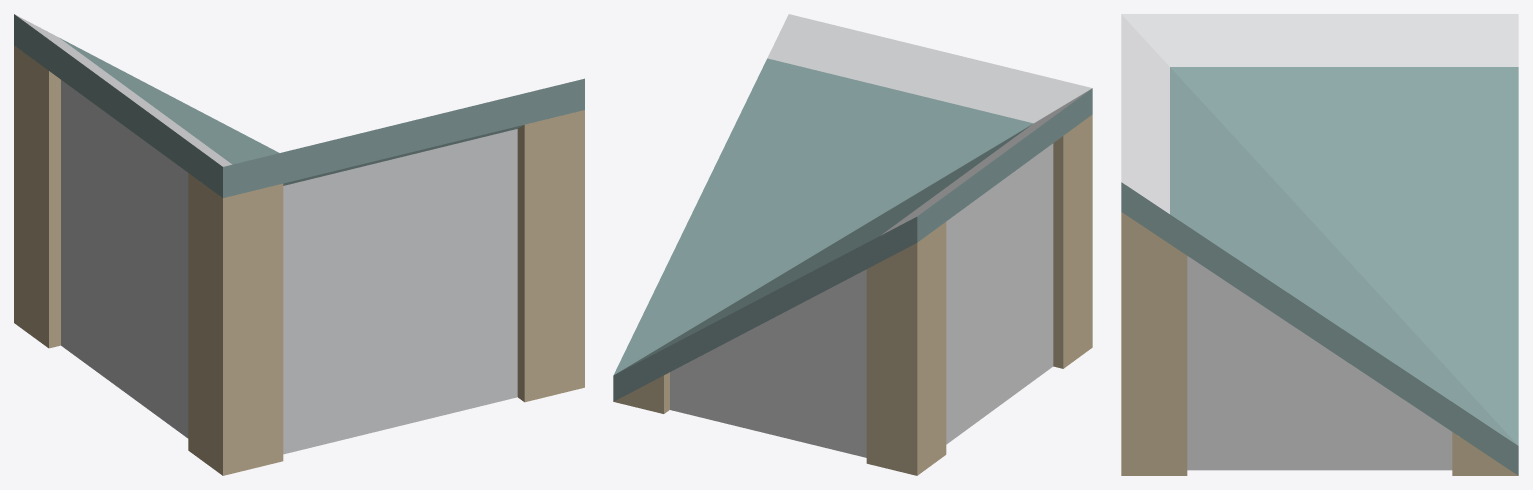
Rendered from Roof_Inner_Corner_Green_01.glb.
3 renders of one model, left to right at view 1: azimuth 30°, elevation 25°; view 2: azimuth 150°, elevation 25°; view 3: azimuth 270°, elevation 25°, orthographic. The views are drawn at different scales.
Visible parts, largest first — view 1: Roof_Inner_Corner_Green_01; view 2: Roof_Inner_Corner_Green_01; view 3: Roof_Inner_Corner_Green_01.
Part boxes in pixels (x1,y1,x2,y2): Roof_Inner_Corner_Green_01: (14, 14, 584, 475); Roof_Inner_Corner_Green_01: (613, 14, 1092, 475); Roof_Inner_Corner_Green_01: (1121, 14, 1518, 475).
Bounding box in the file's own units: 3 × 2.45 × 3.
